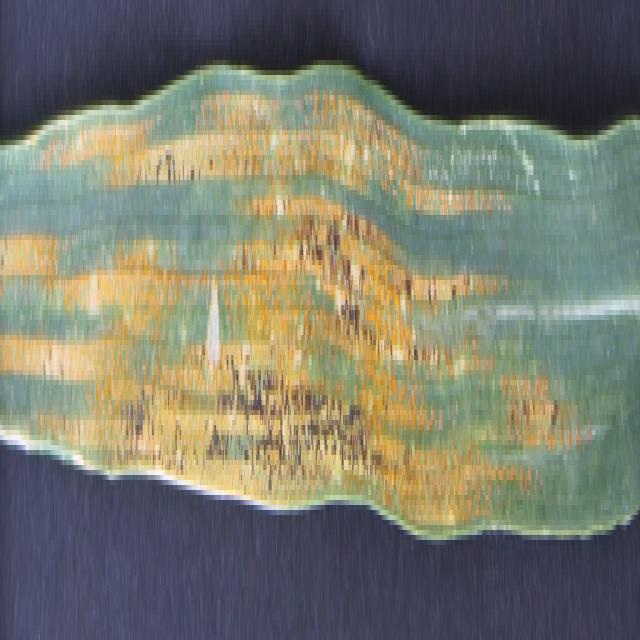leaf rust: (1, 65, 582, 505)
